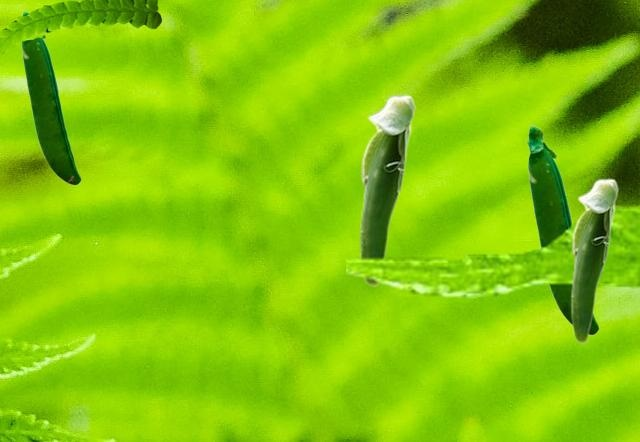pea: (526, 124, 598, 334), (359, 94, 415, 286), (21, 10, 80, 184), (570, 178, 618, 343)
